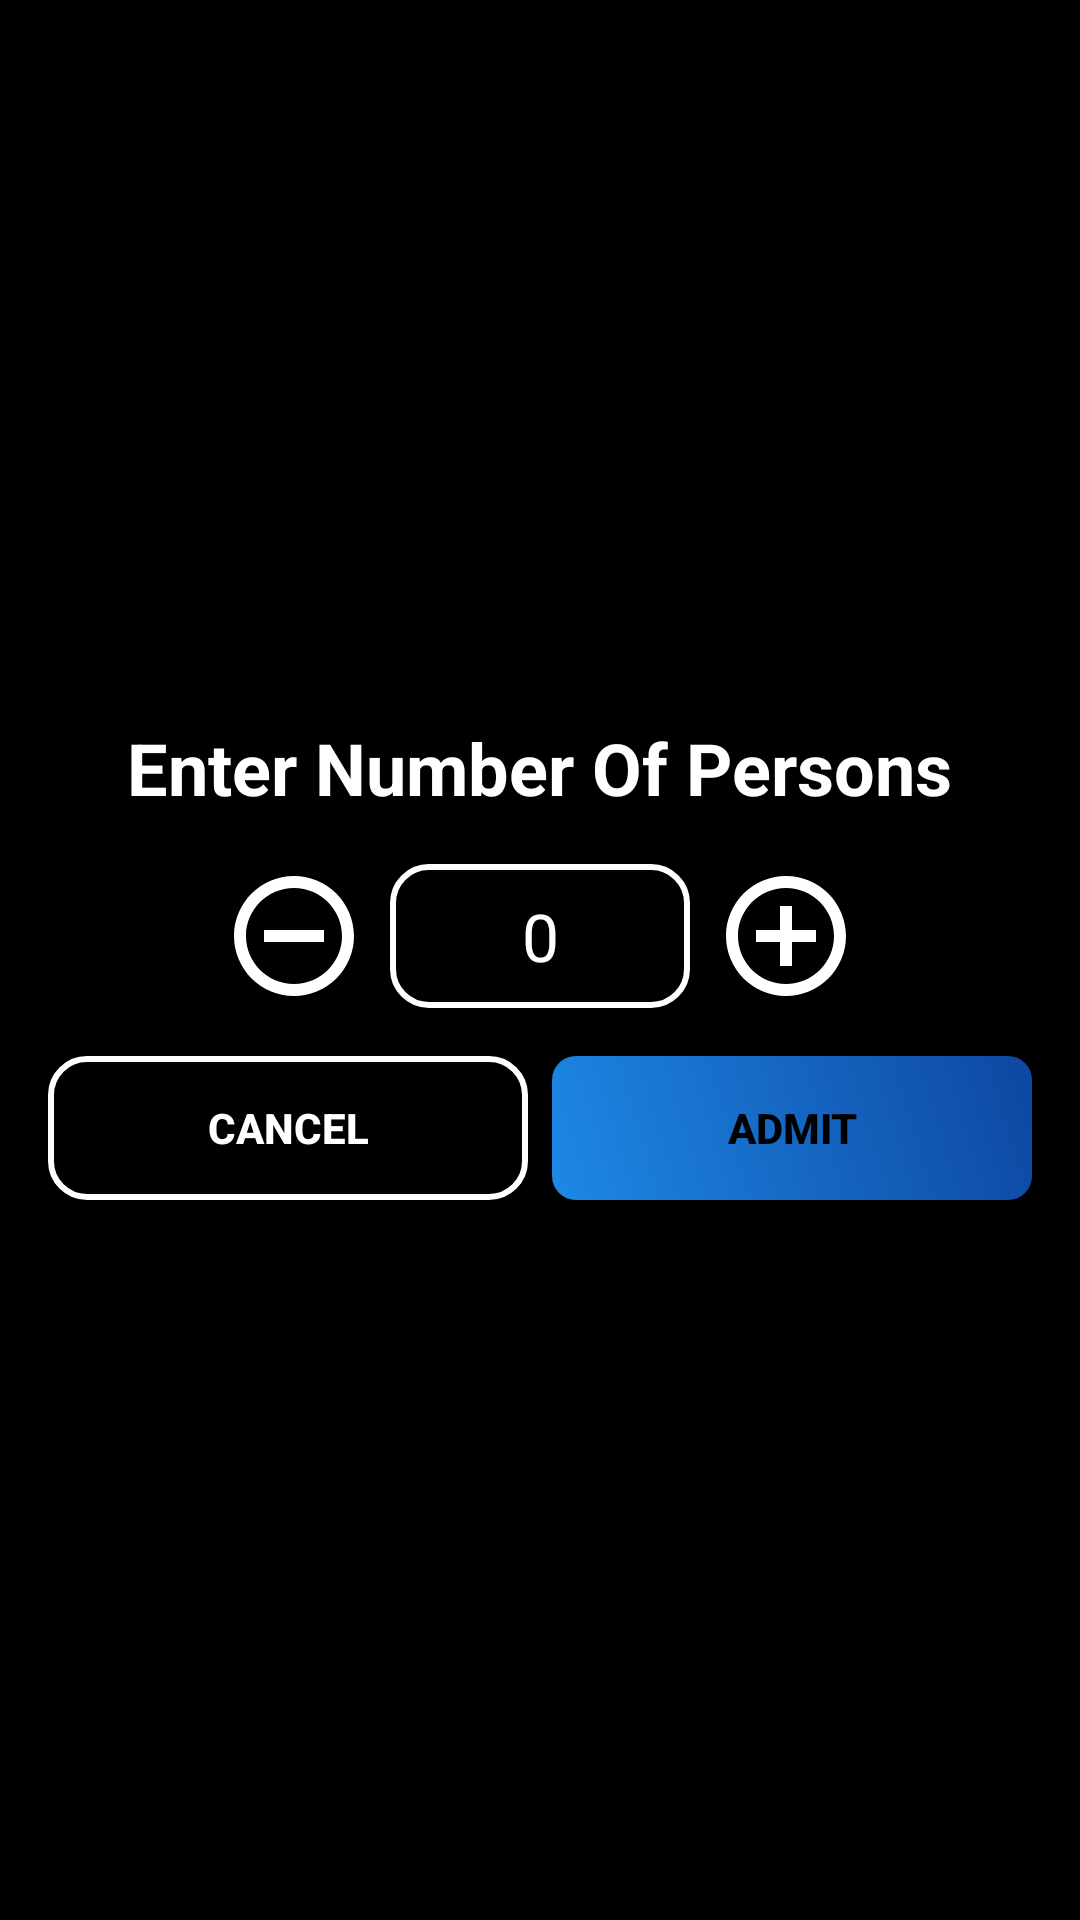

Named icons in this screenshot (1080px×1920px) and their bounding boxes, {"x1": x1, "y1": y1, "x2": x2, "y2": y2}:
decrement: {"x1": 234, "y1": 876, "x2": 354, "y2": 996}
increment: {"x1": 726, "y1": 876, "x2": 846, "y2": 996}
